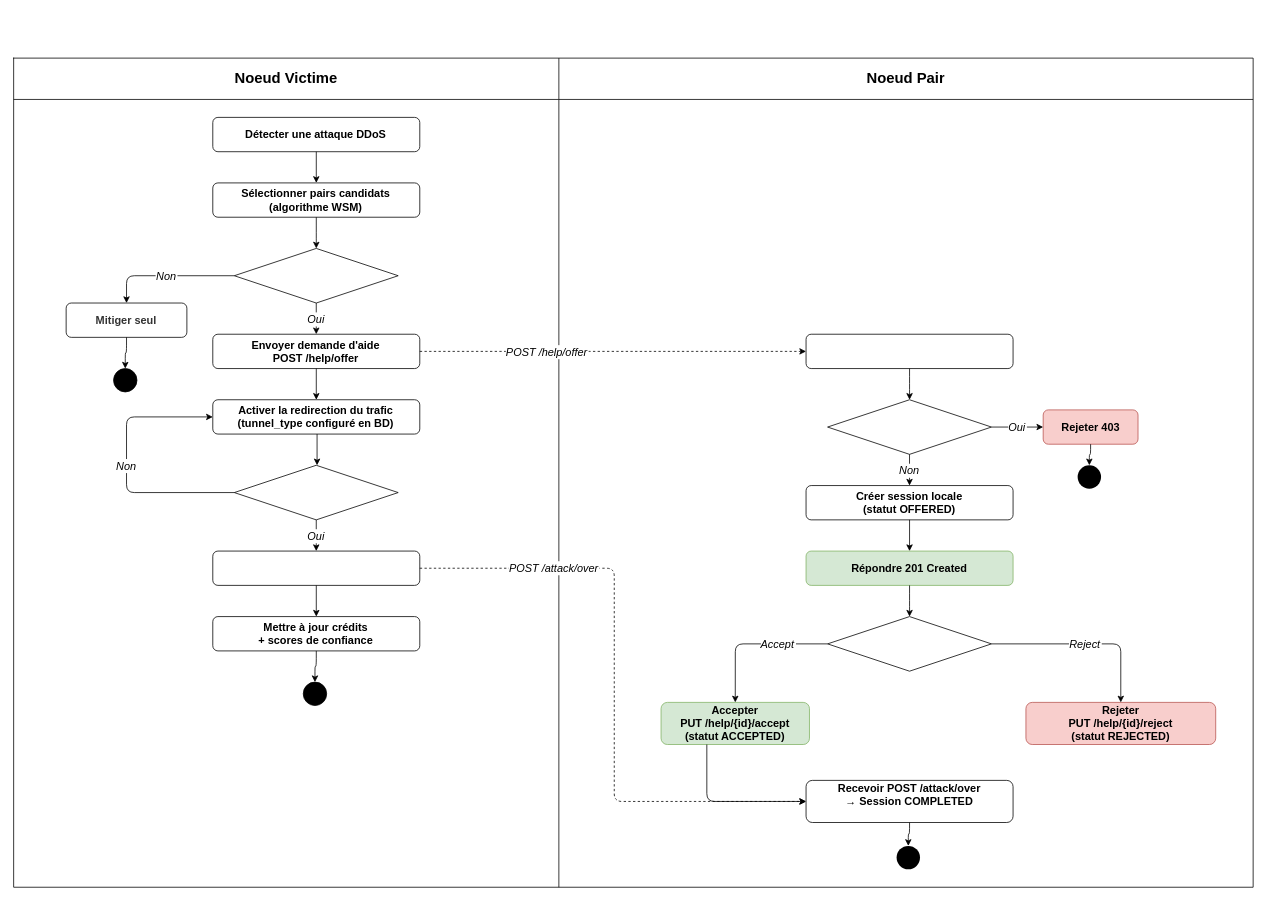
This 1275x901 diagram has some shape labels left out. The centre of each missing label's shape, as x and y in pixels:
"Attaque terminée ?" belongs at [316,492].
"Demandeur BANNED ?" belongs at [909,426].
"Décision manuelle" belongs at [909,643].
"Notifier fin d'attaque POST /attack/over" belongs at [316,567].
"Pairs disponibles ?" belongs at [316,275].
"Recevoir POST /help/offer" belongs at [909,351].
